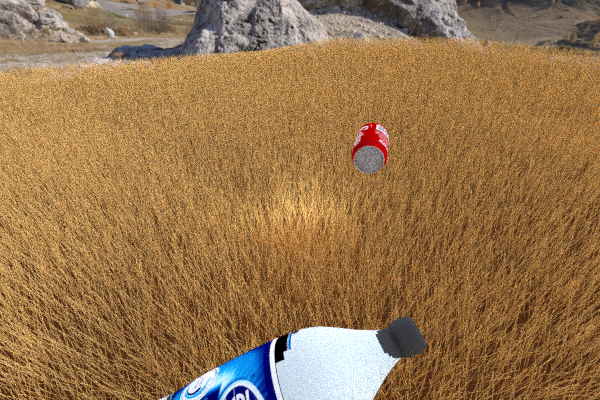Plastic Bottle: (31, 316, 426, 400), (54, 88, 112, 126), (351, 122, 388, 173)
